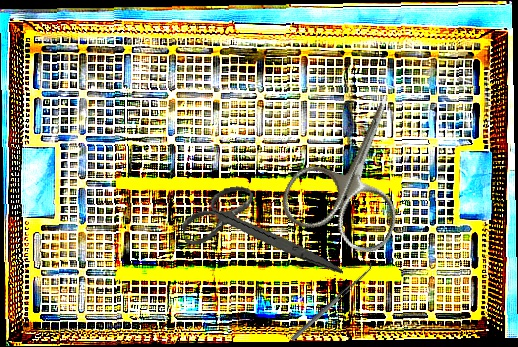Iris Scissors: (274, 72, 441, 261), (177, 170, 343, 301)
Spatula Surgical: (287, 260, 376, 342)
